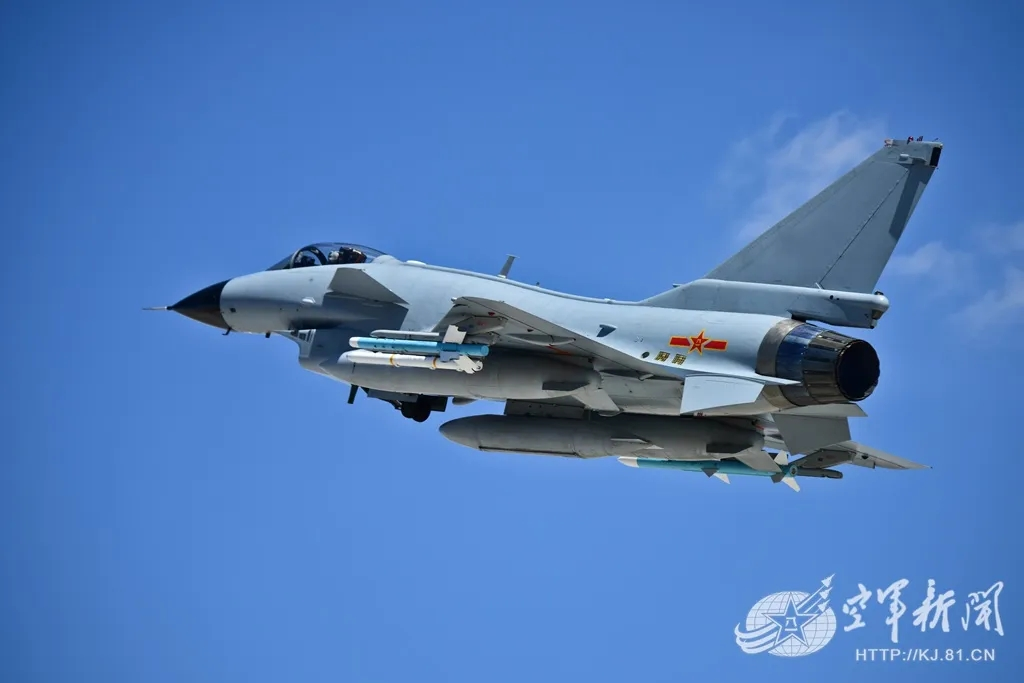airplane: (136, 116, 940, 506)
